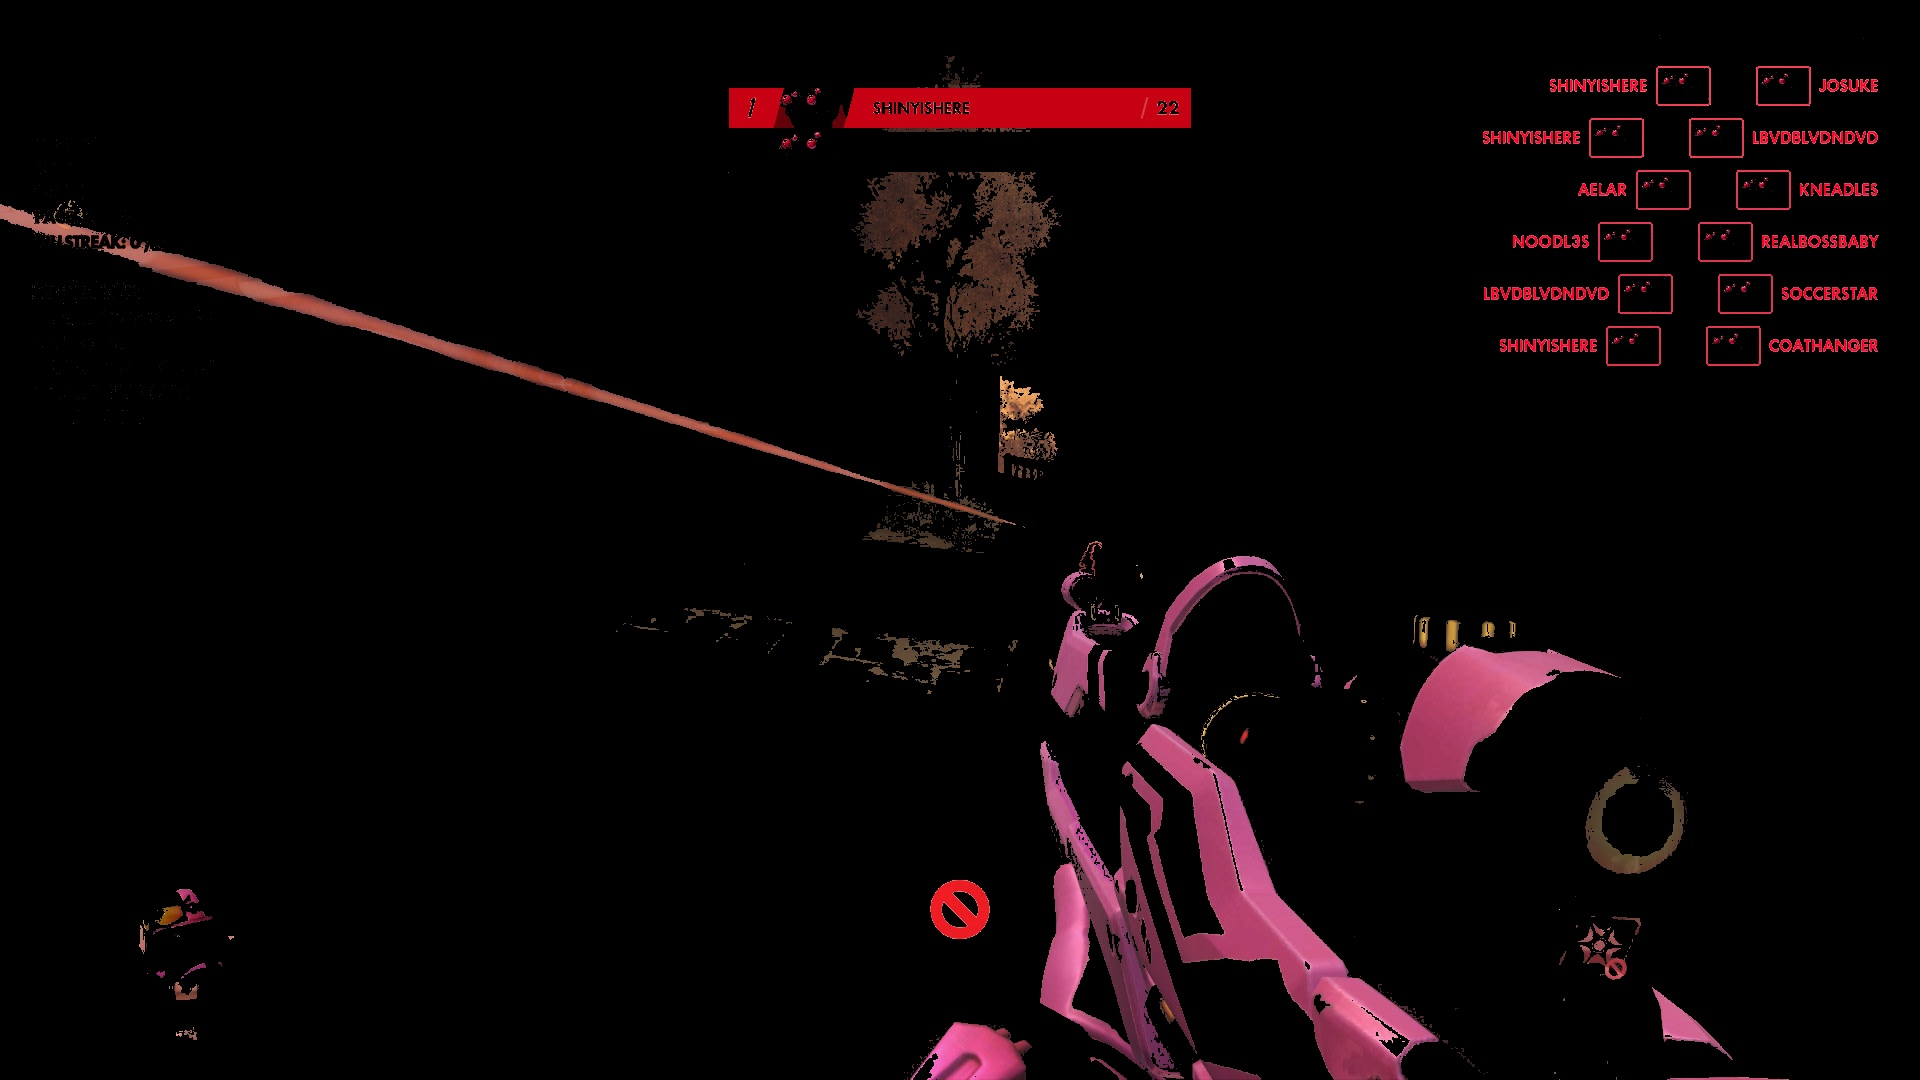widowmaker: (1077, 550, 1098, 578)
